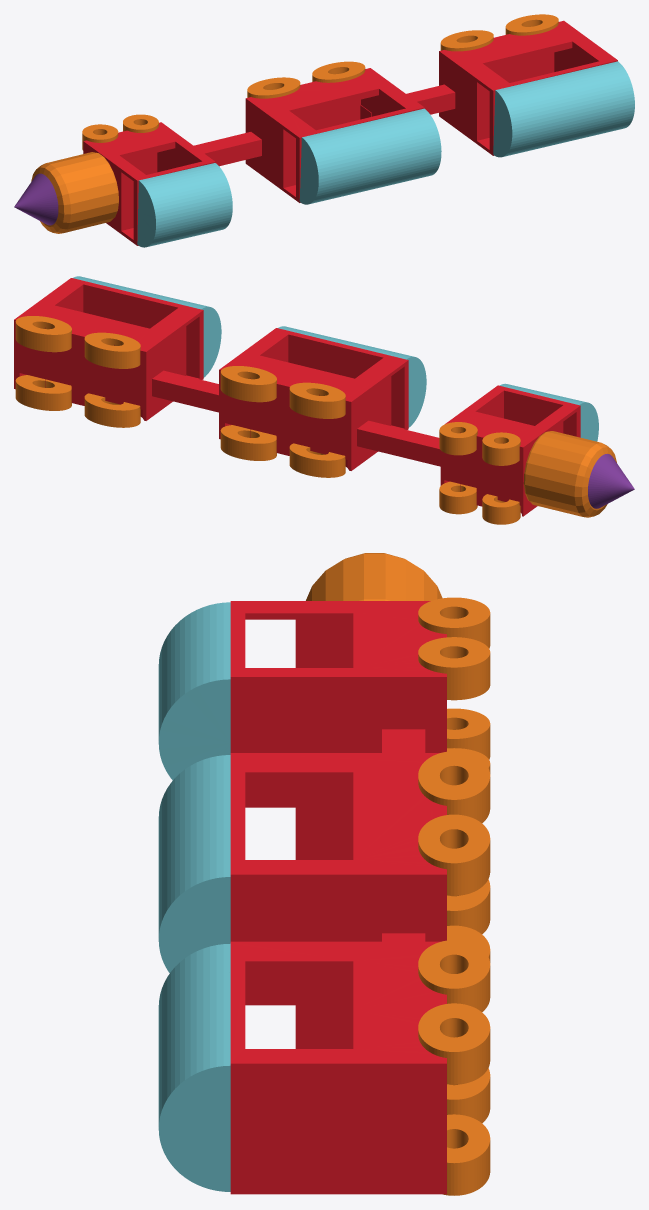
The model's file is tinker.obj.
The picture shows the model from 3 angles, top to bottom: view 1: azimuth 30°, elevation 25°; view 2: azimuth 150°, elevation 25°; view 3: azimuth 270°, elevation 25°; orthographic projection. The views are drawn at different scales.
Parts seen in each view (by area): view 1: group_0_15277357, group_0_7720667, group_0_16089887, group_0_8273816; view 2: group_0_15277357, group_0_16089887, group_0_7720667, group_0_8273816; view 3: group_0_15277357, group_0_7720667, group_0_16089887.
Boxes of the visible parts, x1=… form: group_0_15277357: x1=83, y1=20, x2=617, y2=245; group_0_7720667: x1=137, y1=61, x2=634, y2=247; group_0_16089887: x1=31, y1=14, x2=558, y2=233; group_0_8273816: x1=14, y1=173, x2=58, y2=225; group_0_15277357: x1=14, y1=278, x2=580, y2=516; group_0_16089887: x1=15, y1=316, x2=616, y2=524; group_0_7720667: x1=73, y1=276, x2=598, y2=441; group_0_8273816: x1=588, y1=453, x2=634, y2=508; group_0_15277357: x1=230, y1=601, x2=446, y2=1194; group_0_7720667: x1=158, y1=602, x2=230, y2=1191; group_0_16089887: x1=306, y1=553, x2=490, y2=1195.
Bounding box in the file's own units: 182 × 23 × 46.
